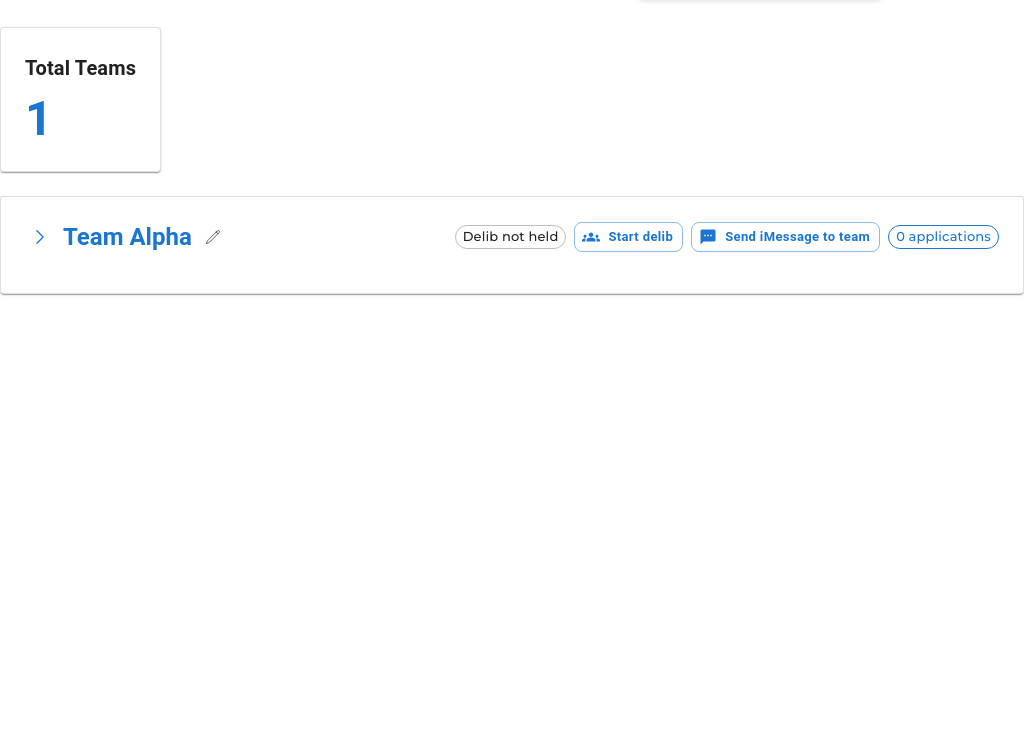
it: ReviewTeams member management › excludes existing members from the add-member dialog
The width and height of the screenshot is (1024, 729).
Check: the heading "Team Alpha" is shown, box [63, 221, 192, 253]
Click the button named "expand team" at (40, 237), box [25, 222, 55, 252]
(page scrolled)
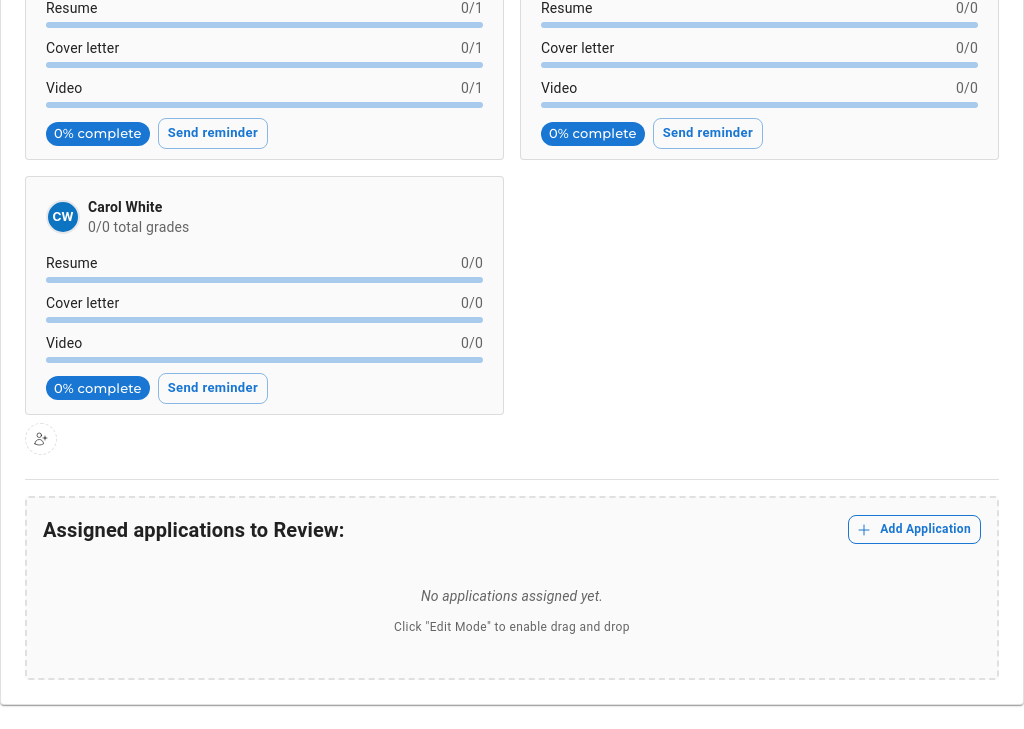
Click the button titled "Add team member" at (41, 439), box [25, 423, 57, 455]
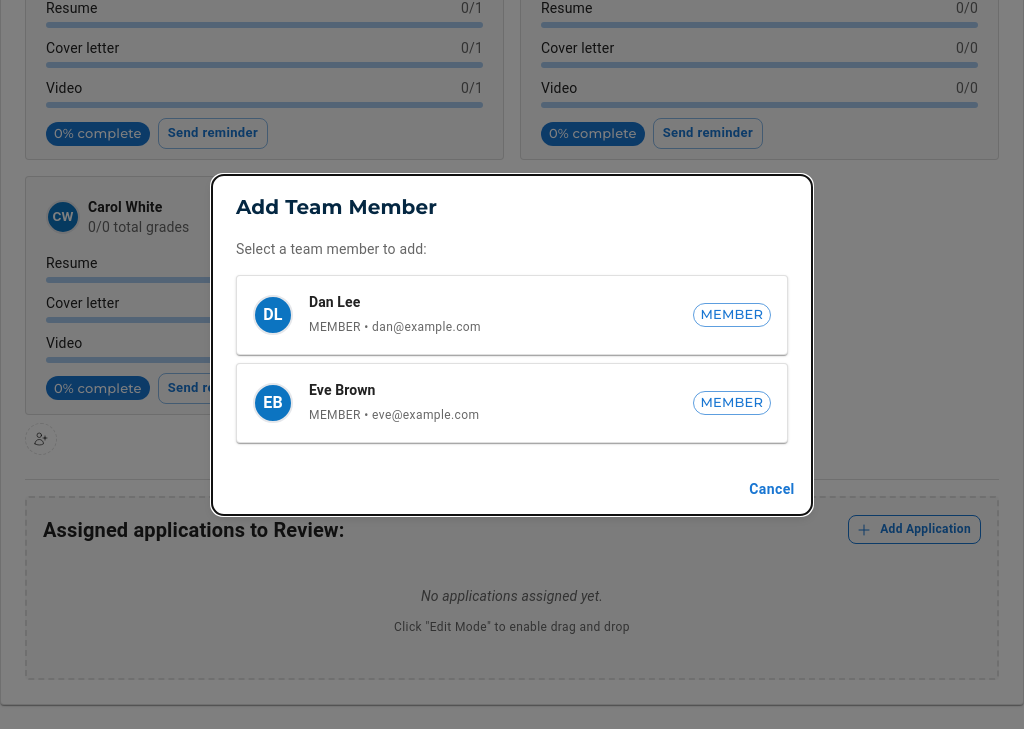
Check: the heading "Dan Lee" is shown, box [309, 294, 360, 310]
